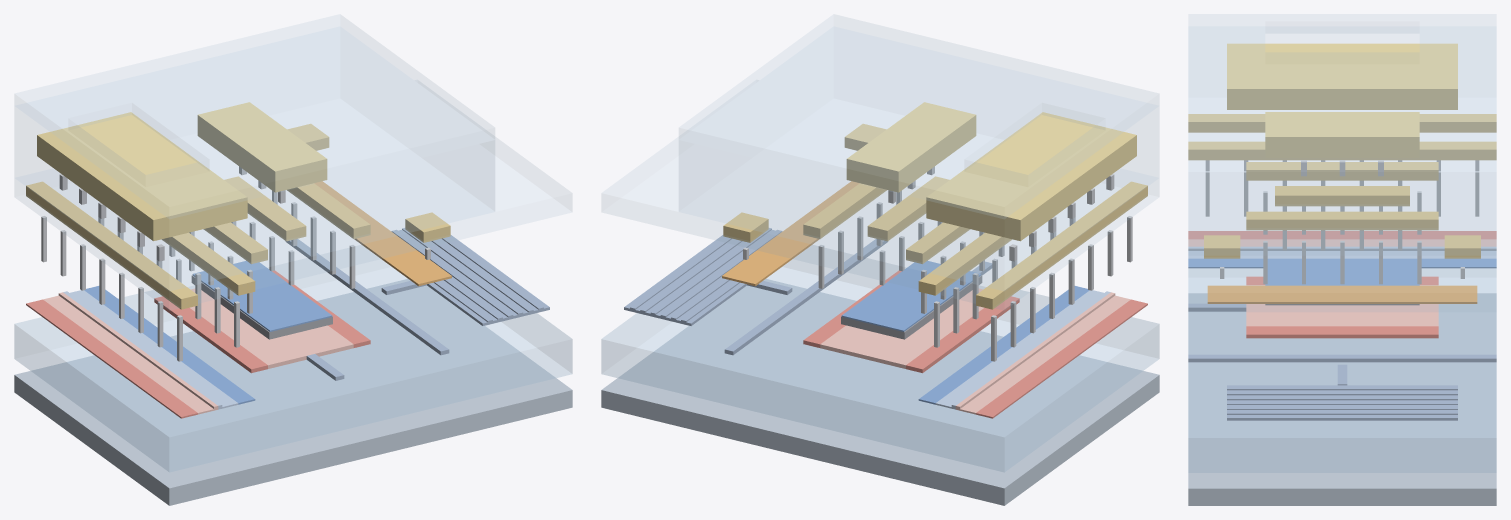
File: stack-soi-x.glb
3 renders of one model, left to right at view 1: azimuth 30°, elevation 25°; view 2: azimuth 150°, elevation 25°; view 3: azimuth 270°, elevation 25°, orthographic.
Parts seen in each view (by area): view 1: clad, sisub, ox, metal2, metal1, si, pdop, wplug, nn, pp, tin, ndop (+1 smaller); view 2: clad, sisub, ox, metal2, metal1, si, pdop, wplug, nn, pp, tin, ndop (+1 smaller); view 3: clad, sisub, ox, metal2, metal1, si, pdop, nn, tin, pp, wplug, ndop.
Part boxes in pixels (box(x1,y1,x2,y2)): clad: box(14, 15, 571, 309); sisub: box(14, 279, 572, 505); ox: box(14, 245, 572, 472); metal2: box(37, 102, 327, 241); metal1: box(26, 124, 450, 309); si: box(286, 228, 549, 380); pdop: box(43, 288, 353, 414); wplug: box(41, 166, 430, 361); nn: box(84, 261, 332, 404); pp: box(26, 270, 370, 418); tin: box(314, 181, 451, 286); ndop: box(63, 290, 238, 409); clad: box(602, 15, 1159, 309); sisub: box(601, 279, 1159, 505); ox: box(601, 245, 1159, 472); metal2: box(846, 102, 1136, 241); metal1: box(723, 124, 1147, 309); si: box(624, 228, 992, 355); pdop: box(820, 288, 1130, 414); wplug: box(743, 166, 1132, 361); nn: box(841, 261, 1089, 404); pp: box(803, 270, 1147, 418); tin: box(722, 181, 859, 286); ndop: box(935, 290, 1110, 409); clad: box(1188, 14, 1496, 311); sisub: box(1188, 293, 1496, 505); ox: box(1188, 268, 1496, 472); metal2: box(1227, 43, 1457, 157); metal1: box(1188, 114, 1496, 258); si: box(1188, 303, 1496, 420); pdop: box(1188, 239, 1496, 326); nn: box(1188, 258, 1496, 285); tin: box(1207, 285, 1477, 303); pp: box(1188, 231, 1496, 338); wplug: box(1205, 160, 1479, 284); ndop: box(1188, 246, 1496, 258).
Bounding box in the file's own units: 24 × 17 × 16.
